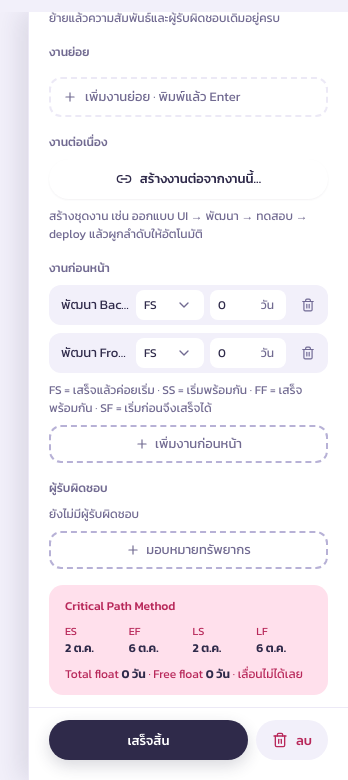
Test: TaskPanel › adds a predecessor and surfaces cycle errors from the API
This screenshot has width=348, height=780.
(page scrolled)
Click the button "เพิ่มงานก่อนหน้า" at [188, 444], box 49,425 -> 328,463
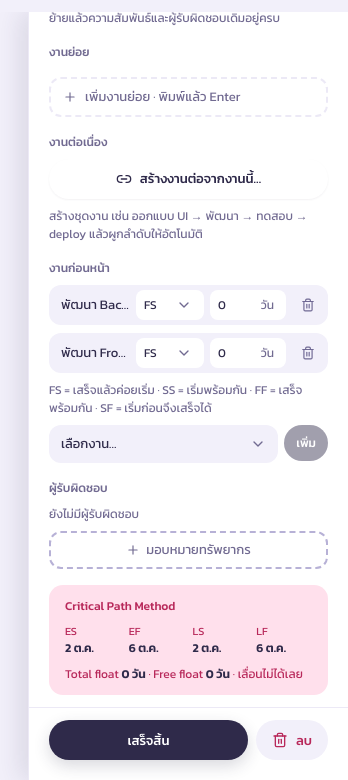
Select "3 ออกแบบ UI" in the dropdown named "เลือกงานก่อนหน้า" at [164, 444], box 49,425 -> 278,463
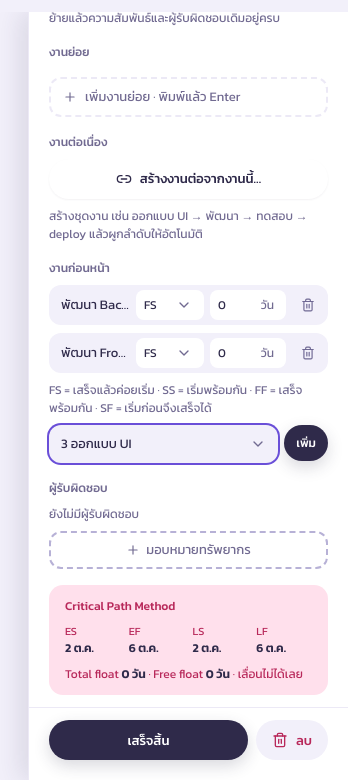
Click the button "เพิ่ม" at [306, 443], box 284,425 -> 328,461
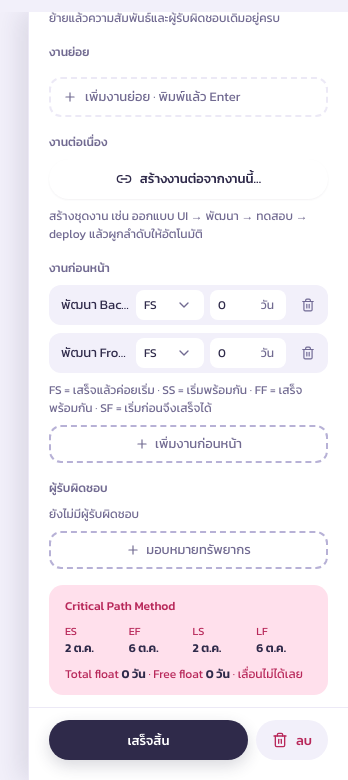
Click the button "เพิ่มงานก่อนหน้า" at [188, 444], box 49,425 -> 328,463
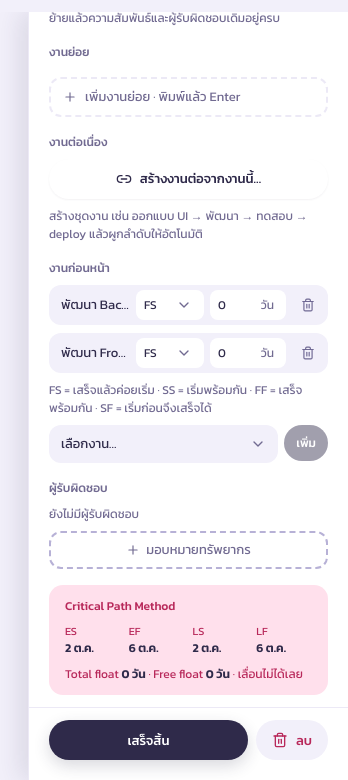
Select "1 รวบรวมความต้องการ" in the dropdown named "เลือกงานก่อนหน้า" at [164, 444], box 49,425 -> 278,463
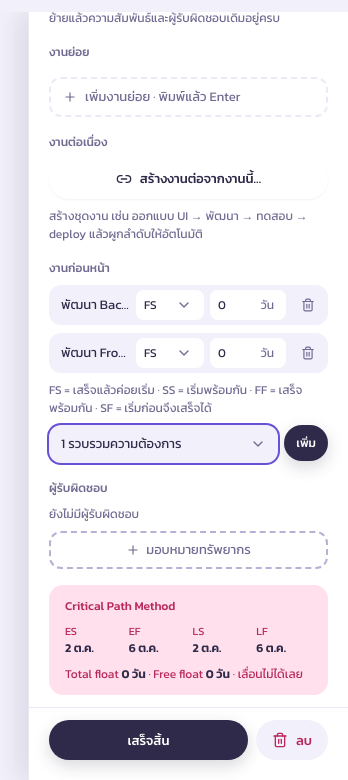
Click the button "เพิ่ม" at [306, 443], box 284,425 -> 328,461
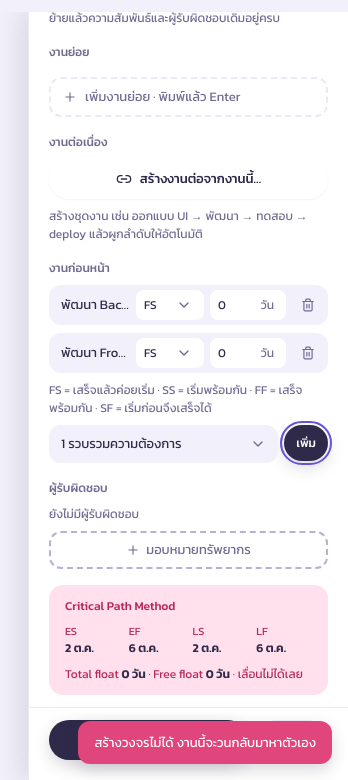
Result: the text "สร้างวงจรไม่ได้ งานนี้จะวนกลับมาหาตัวเอง" is shown at 94,732 -> 316,752
